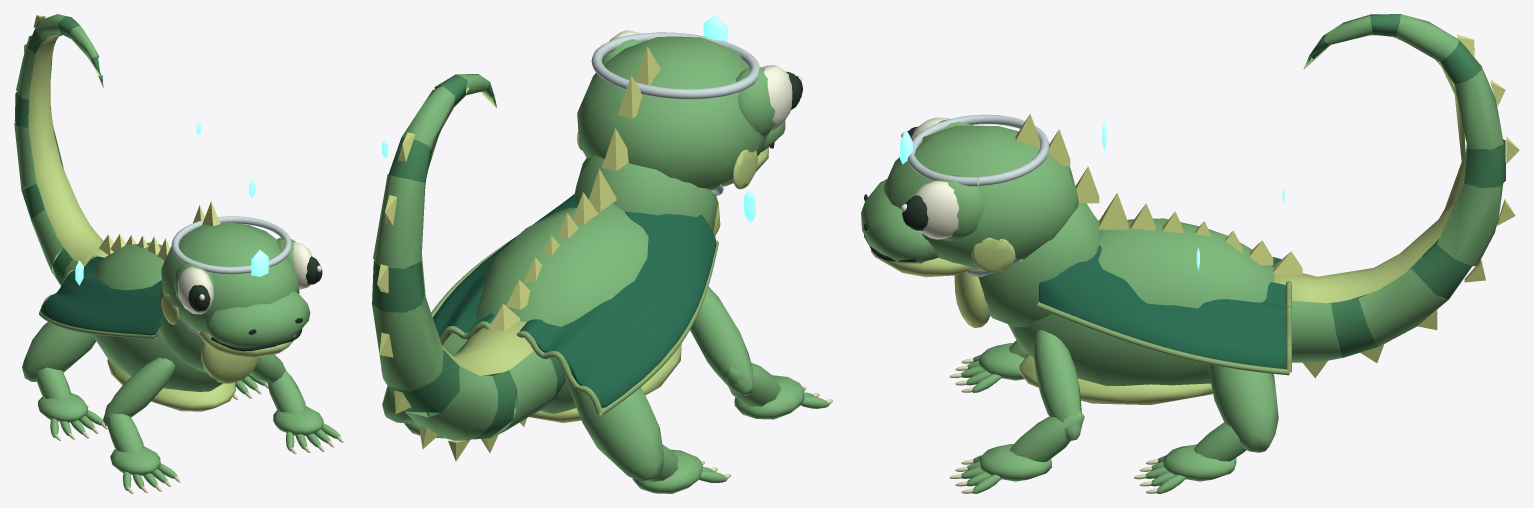
File: iguana.glb
3 views of the same model, side by side, from view 1: azimuth 30°, elevation 25°; view 2: azimuth 150°, elevation 25°; view 3: azimuth 270°, elevation 25° (orthographic). The views are drawn at different scales.
Parts seen in each view (by area): view 1: tail_long_curled_iguana_tail, head_broad_iguana_head, body_pear_shaped_torso, cape_green_woodland_cape_1, head_rounded_muzzle, leg_-1_-1, leg_-1_1, body_pale_belly, head_silver_woodland_circlet, body_neck, head_dewlap, leg_-1_1_lower_leg (+12 smaller); view 2: tail_long_curled_iguana_tail, head_broad_iguana_head, cape_green_woodland_cape_1, body_pear_shaped_torso, leg_-1_-1, body_neck, leg_-1_1, head_silver_woodland_circlet, cape_green_woodland_cape_1_1, head_eye_socket_1, leg_-1_1_palm, leg_-1_-1_palm_001 (+12 smaller); view 3: tail_long_curled_iguana_tail, body_pear_shaped_torso, head_broad_iguana_head, cape_green_woodland_cape_1_1, body_neck, leg_1_-1, leg_1_1, head_rounded_muzzle, body_pale_belly, head_silver_woodland_circlet, leg_1_1_lower_leg_002, head_eye_white_1_1 (+9 smaller).
Boxes of the visible parts, x1,y1,x2,y2 form: tail_long_curled_iguana_tail: (14, 14, 108, 285); head_broad_iguana_head: (161, 222, 299, 332); body_pear_shaped_torso: (93, 242, 222, 391); cape_green_woodland_cape_1: (41, 256, 164, 335); head_rounded_muzzle: (205, 290, 310, 347); leg_-1_-1: (22, 322, 96, 381); leg_-1_1: (103, 357, 174, 426); body_pale_belly: (107, 359, 235, 411); head_silver_woodland_circlet: (171, 216, 291, 274); body_neck: (159, 284, 206, 372); head_dewlap: (201, 342, 260, 383); leg_-1_1_lower_leg: (105, 402, 143, 452); tail_long_curled_iguana_tail: (372, 74, 565, 440); head_broad_iguana_head: (577, 36, 768, 190); cape_green_woodland_cape_1: (520, 211, 716, 407); body_pear_shaped_torso: (476, 204, 648, 413); leg_-1_-1: (568, 381, 664, 481); body_neck: (573, 155, 717, 232); leg_-1_1: (690, 286, 753, 396); head_silver_woodland_circlet: (591, 32, 759, 99); cape_green_woodland_cape_1_1: (433, 194, 578, 340); head_eye_socket_1: (735, 67, 775, 137); leg_-1_1_palm: (734, 375, 804, 419); leg_-1_-1_palm_001: (632, 449, 703, 493); tail_long_curled_iguana_tail: (1273, 14, 1505, 362); body_pear_shaped_torso: (1008, 218, 1274, 385); head_broad_iguana_head: (884, 125, 1078, 270); cape_green_woodland_cape_1_1: (1039, 245, 1286, 368); body_neck: (978, 203, 1103, 327); leg_1_-1: (1208, 364, 1278, 452); leg_1_1: (1034, 330, 1081, 440); head_rounded_muzzle: (861, 179, 937, 263); body_pale_belly: (1019, 354, 1212, 404); head_silver_woodland_circlet: (907, 114, 1049, 186); leg_1_1_lower_leg_002: (1009, 411, 1084, 461); head_eye_white_1_1: (913, 180, 958, 239).
Bounding box in the file's own units: 1.87 × 2.68 × 3.86.
